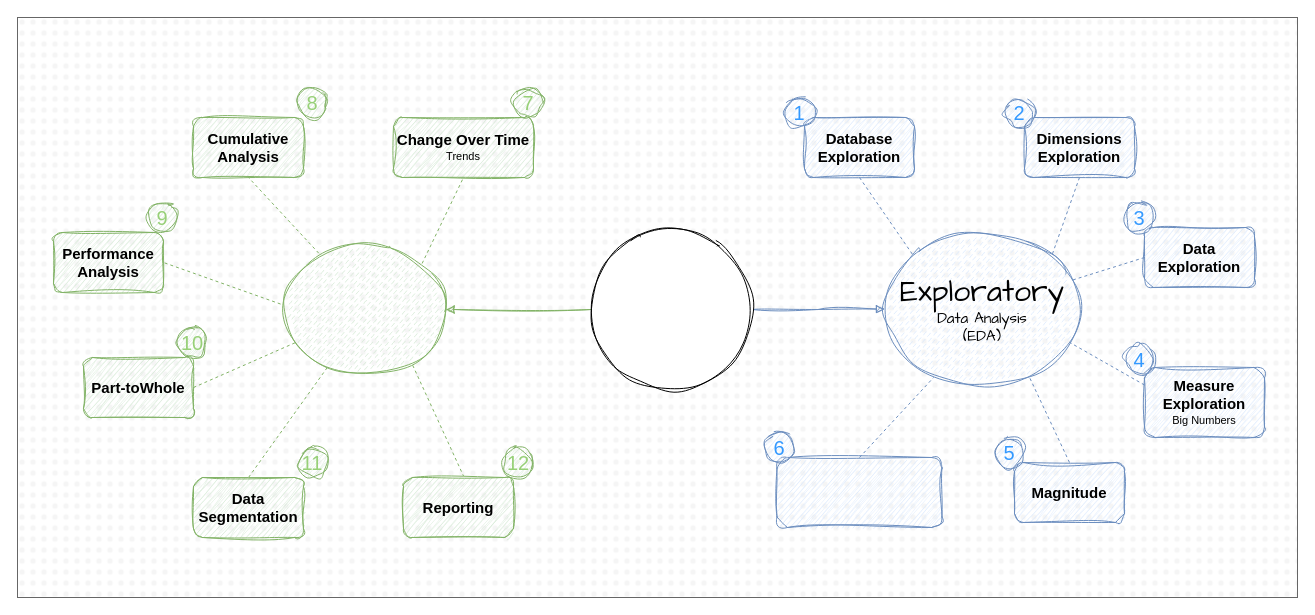
Some shapes in this 1315 by 615 pixel diagram are drawn without their labels. Each missing label, with the centre of its shape:
"Advance Analytics" belongs at (x=364, y=309).
"Data Analytics" belongs at (x=671, y=309).
"Ranking Top N - Bottom N" belongs at (x=859, y=492).
